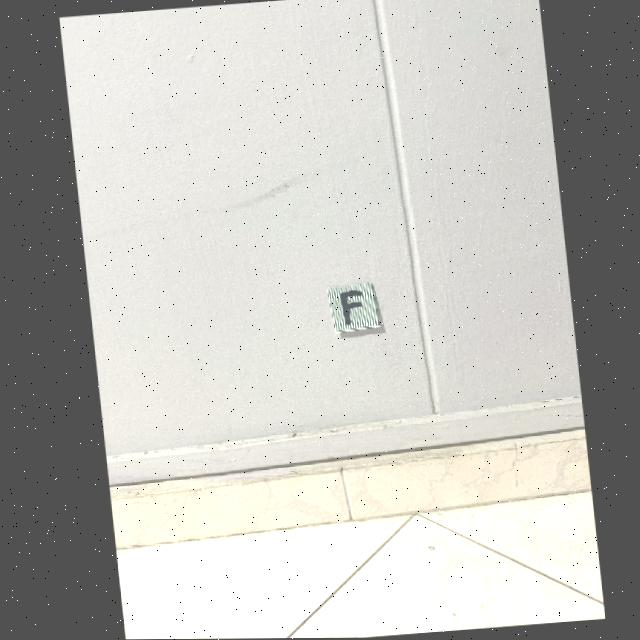F: (338, 290, 360, 325)
